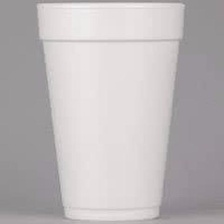paper_cup: (29, 0, 191, 224)
